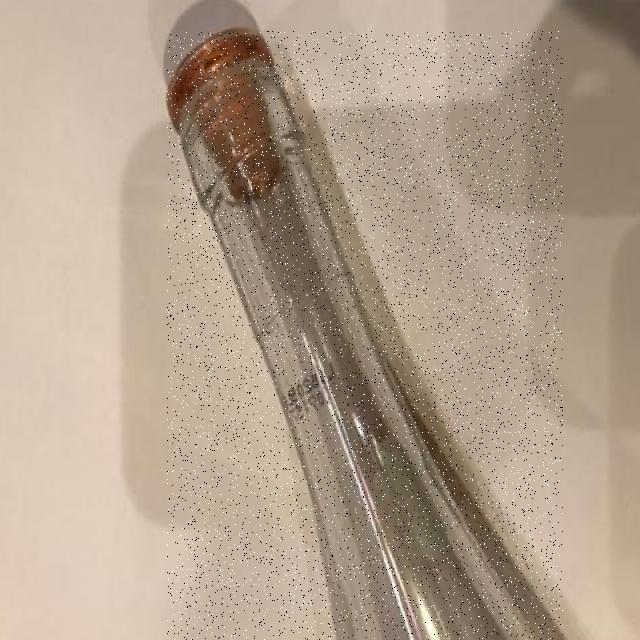glass: (167, 31, 563, 640)
